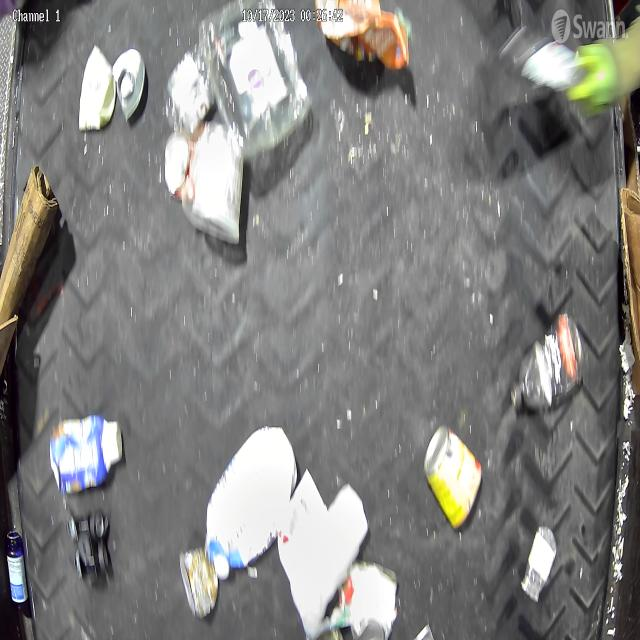can: (422, 423, 482, 528), (179, 548, 219, 619), (165, 132, 196, 198)
non_white_jug: (206, 426, 299, 579)
plastic_bottle: (510, 313, 584, 412)
